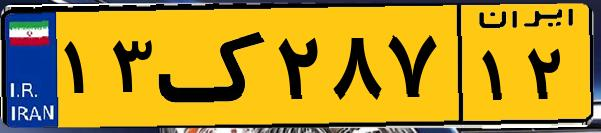1: (57, 26, 110, 100), (475, 38, 525, 113)
2: (270, 28, 330, 110), (525, 38, 570, 115)
3: (110, 28, 158, 98)
7: (385, 28, 445, 110)
8: (330, 28, 385, 110)
ک: (158, 12, 270, 120)
